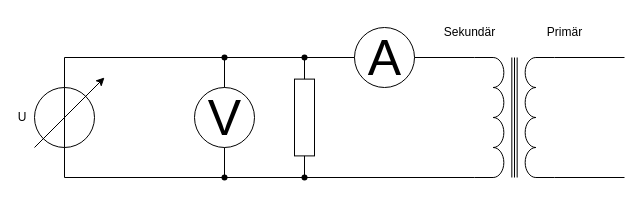
Some shapes in this 643 by 215 pixel diagram are drawn without their labels. The shapes that lost their labels are listed below. From the top down, each one's box as (x1, y1, x2, y2) in pixels, then its label:
(294, 56, 314, 178): 1 MΩ
(474, 56, 554, 178): Wandler
